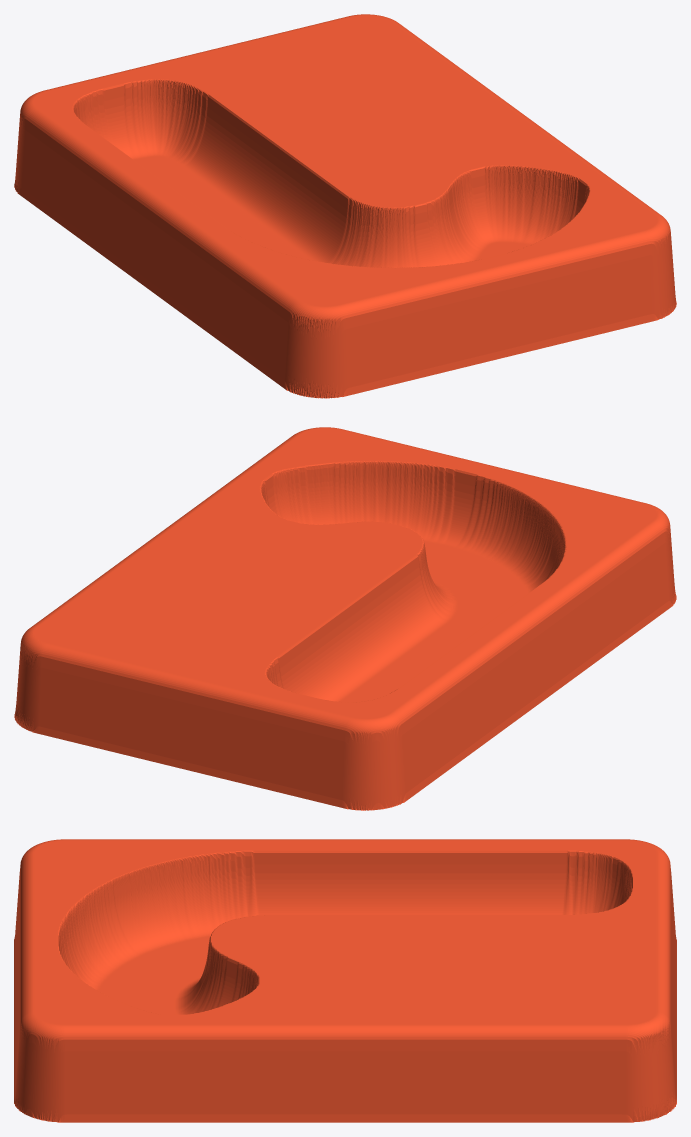
File: mold.glb
3 views of the same model, one above another, from view 1: azimuth 30°, elevation 25°; view 2: azimuth 150°, elevation 25°; view 3: azimuth 270°, elevation 25° (orthographic). The views are drawn at different scales.
Visible parts, largest first — view 1: geometry_0; view 2: geometry_0; view 3: geometry_0.
Boxes of the visible parts, x1,y1,x2,y2 form: geometry_0: (14,14,676,398); geometry_0: (14,427,676,810); geometry_0: (14,839,676,1122).
Size of the model in its own units: 0.0846 by 0.0175 by 0.1178.
